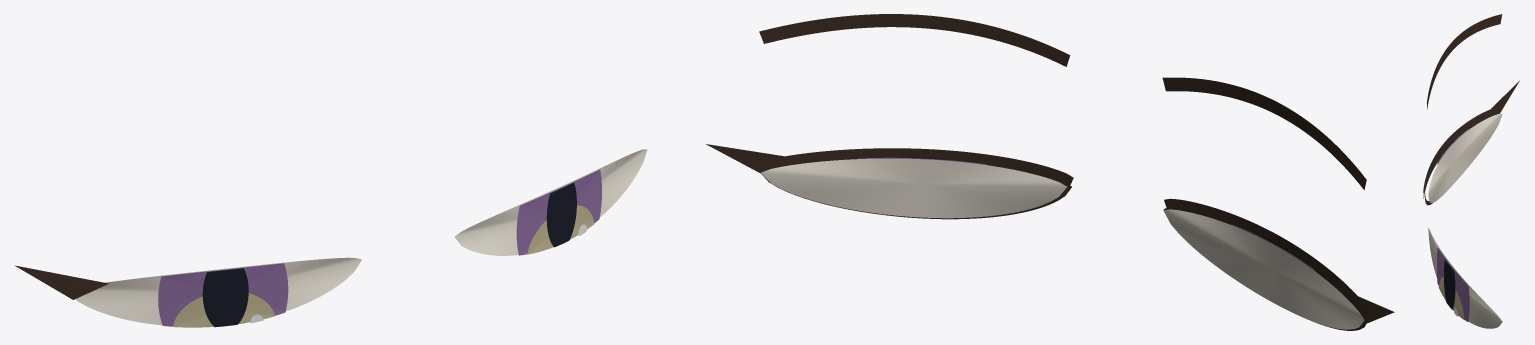
The picture shows the model from 3 angles, left to right: view 1: azimuth 30°, elevation 25°; view 2: azimuth 150°, elevation 25°; view 3: azimuth 270°, elevation 25°; orthographic projection. The views are drawn at different scales.
Visible parts, largest first — view 1: Eye_White_-1, Eye_White_1, Eye_Iris_-1, Eye_Pupil_-1, Eye_Iris_1, Eye_Pupil_1, Eye_Iris_Light_-1, Eye_LashWing_-1, Eye_Iris_Light_1; view 2: Eye_White_1, Eye_White_-1, Eyebrow_1, Eye_UpperLid_1, Eyebrow_-1, Eye_UpperLid_-1, Eye_LashWing_1, Eye_LowerLid_1; view 3: Eye_White_-1, Eye_White_1, Eyebrow_-1, Eye_UpperLid_-1, Eye_Iris_1, Eye_Pupil_1, Eye_Iris_Light_1, Eye_LashWing_-1.
Boxes of the visible parts, x1,y1,x2,y2 form: Eye_White_-1: [76, 257, 361, 325]; Eye_White_1: [454, 149, 647, 255]; Eye_Iris_-1: [158, 263, 288, 326]; Eye_Pupil_-1: [202, 268, 248, 327]; Eye_Iris_1: [516, 169, 601, 255]; Eye_Pupil_1: [546, 183, 576, 247]; Eye_Iris_Light_-1: [173, 293, 274, 327]; Eye_LashWing_-1: [15, 265, 108, 299]; Eye_Iris_Light_1: [527, 205, 593, 254]; Eye_White_1: [761, 158, 1067, 218]; Eye_White_-1: [1163, 209, 1364, 329]; Eyebrow_1: [759, 14, 1070, 66]; Eye_UpperLid_1: [760, 148, 1073, 185]; Eyebrow_-1: [1162, 77, 1366, 190]; Eye_UpperLid_-1: [1164, 198, 1369, 318]; Eye_LashWing_1: [706, 144, 783, 173]; Eye_LowerLid_1: [760, 169, 1071, 219]; Eye_White_-1: [1428, 113, 1502, 202]; Eye_White_1: [1428, 228, 1502, 328]; Eyebrow_-1: [1427, 14, 1502, 109]; Eye_UpperLid_-1: [1423, 107, 1499, 198]; Eye_Iris_1: [1437, 247, 1469, 321]; Eye_Pupil_1: [1444, 260, 1455, 309]; Eye_Iris_Light_1: [1438, 277, 1464, 319]; Eye_LashWing_-1: [1491, 80, 1519, 113].
Bounding box in the file's own units: 0.418 × 0.1185 × 0.0723.
